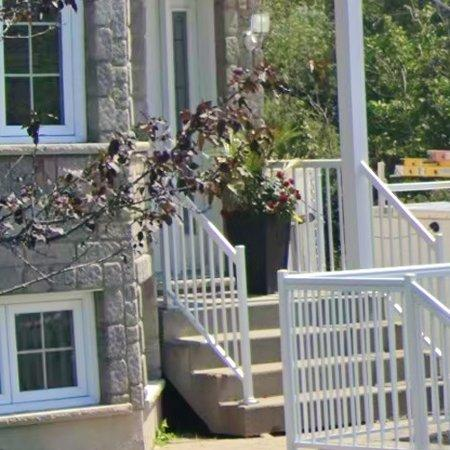stairs: (164, 274, 408, 437)
